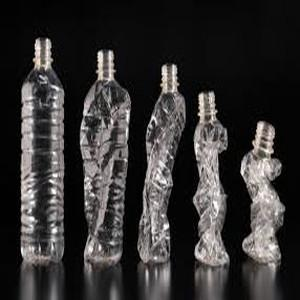Plastic: (17, 36, 69, 267), (80, 48, 132, 266), (137, 64, 186, 269), (186, 89, 236, 269), (240, 116, 284, 271)
